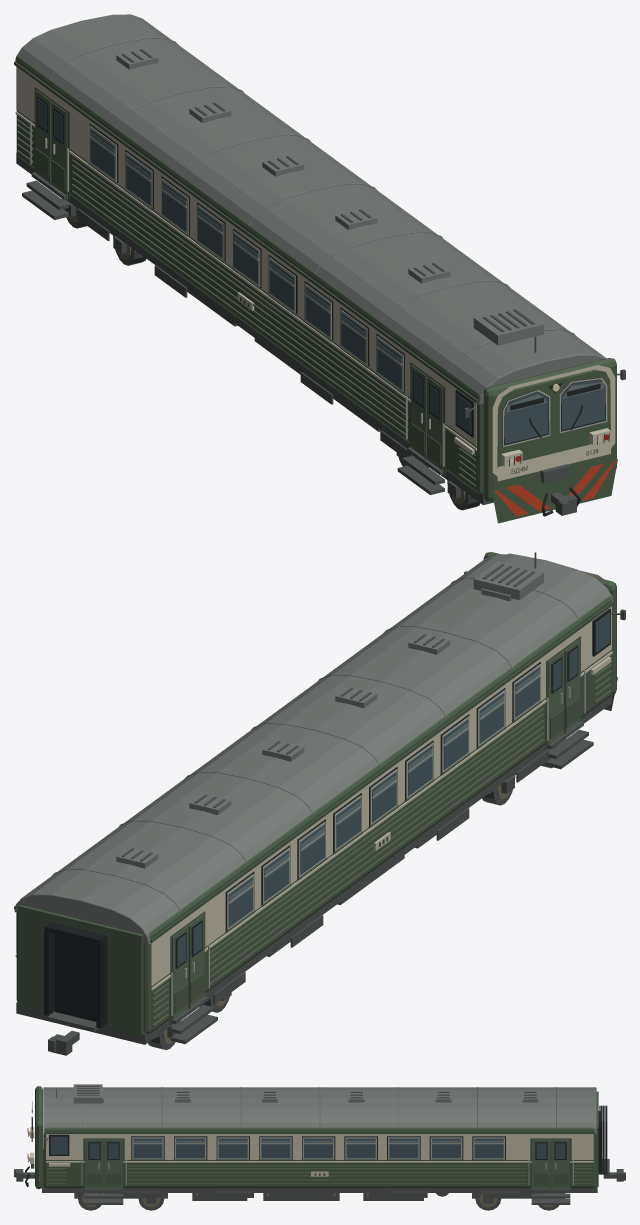
The model's file is ed4m_head.glb.
The picture shows the model from 3 angles, top to bottom: view 1: azimuth 30°, elevation 25°; view 2: azimuth 150°, elevation 25°; view 3: azimuth 270°, elevation 25°; orthographic projection. The views are drawn at different scales.
Visible parts, largest first — view 1: head / 05 / zinc grey roof, head / 01 / faded bottle green, head / 04 / warm ivory trim, head / 06 / underframe steel, head / 02 / raised body details, head / 08 / opaque blue smoke glass, head / 03 / door recesses, head / 15 / window metal frames, head / 07 / rubber and gaskets, head / 09 / glass reflection, head / 10 / vermilion warning paint; view 2: head / 05 / zinc grey roof, head / 01 / faded bottle green, head / 06 / underframe steel, head / 02 / raised body details, head / 04 / warm ivory trim, head / 07 / rubber and gaskets, head / 08 / opaque blue smoke glass, head / 03 / door recesses, head / 15 / window metal frames, head / 09 / glass reflection; view 3: head / 05 / zinc grey roof, head / 01 / faded bottle green, head / 06 / underframe steel, head / 02 / raised body details, head / 04 / warm ivory trim, head / 08 / opaque blue smoke glass, head / 03 / door recesses, head / 07 / rubber and gaskets, head / 15 / window metal frames, head / 09 / glass reflection, head / 16 / brake dust.
Part boxes in pixels (left/top/right/bottom): head / 05 / zinc grey roof: left=15, top=14, right=606, bottom=404; head / 01 / faded bottle green: left=16, top=56, right=617, bottom=523; head / 04 / warm ivory trim: left=15, top=66, right=615, bottom=481; head / 06 / underframe steel: left=16, top=49, right=625, bottom=515; head / 02 / raised body details: left=16, top=90, right=475, bottom=487; head / 08 / opaque blue smoke glass: left=38, top=98, right=605, bottom=444; head / 03 / door recesses: left=14, top=61, right=598, bottom=475; head / 15 / window metal frames: left=30, top=121, right=607, bottom=466; head / 07 / rubber and gaskets: left=37, top=96, right=605, bottom=516; head / 09 / glass reflection: left=90, top=131, right=604, bottom=412; head / 10 / vermilion warning paint: left=494, top=461, right=615, bottom=516; head / 05 / zinc grey roof: left=14, top=554, right=613, bottom=944; head / 01 / faded bottle green: left=16, top=552, right=617, bottom=1036; head / 06 / underframe steel: left=16, top=552, right=625, bottom=1055; head / 02 / raised body details: left=152, top=639, right=611, bottom=1026; head / 04 / warm ivory trim: left=15, top=553, right=612, bottom=990; head / 07 / rubber and gaskets: left=44, top=608, right=610, bottom=1028; head / 08 / opaque blue smoke glass: left=177, top=612, right=610, bottom=966; head / 03 / door recesses: left=14, top=601, right=614, bottom=1024; head / 15 / window metal frames: left=171, top=664, right=585, bottom=1015; head / 09 / glass reflection: left=229, top=670, right=540, bottom=904; head / 05 / zinc grey roof: left=43, top=1084, right=596, bottom=1134; head / 01 / faded bottle green: left=35, top=1086, right=598, bottom=1188; head / 06 / underframe steel: left=14, top=1085, right=625, bottom=1210; head / 02 / raised body details: left=47, top=1139, right=592, bottom=1188; head / 04 / warm ivory trim: left=30, top=1127, right=593, bottom=1176; head / 08 / opaque blue smoke glass: left=50, top=1136, right=565, bottom=1158; head / 03 / door recesses: left=44, top=1131, right=594, bottom=1190; head / 07 / rubber and gaskets: left=25, top=1101, right=607, bottom=1186; head / 15 / window metal frames: left=81, top=1137, right=573, bottom=1185; head / 09 / glass reflection: left=133, top=1140, right=503, bottom=1144; head / 16 / brake dust: left=82, top=1193, right=557, bottom=1207.
Size of the model in its own units: 4.26 by 4.52 by 23.25.
